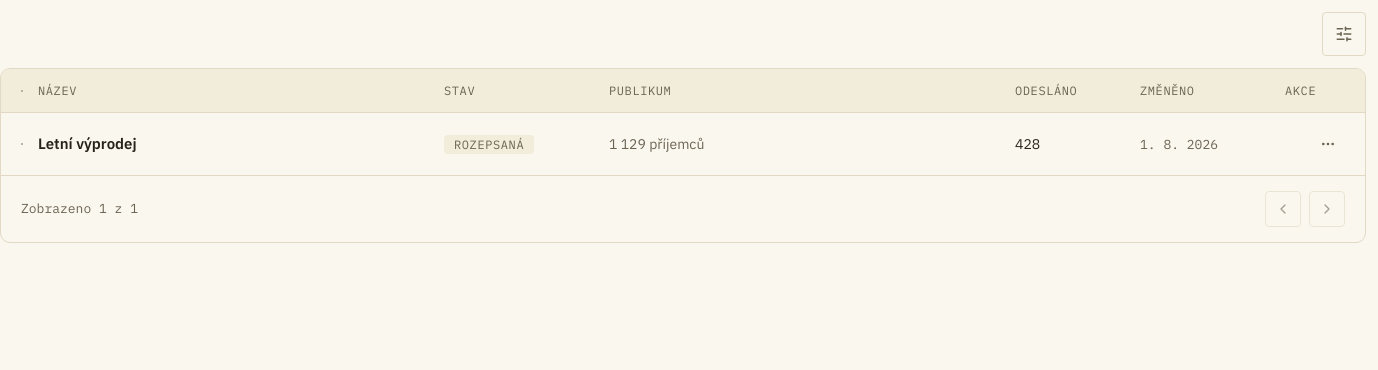
nabídka „…" v řádku kampaně › otevření nabídky neaktivuje řádek, myší ani klávesnicí
The width and height of the screenshot is (1378, 370).
Click the button named "Další akce s kampaní" at coordinates (1328, 144), box [1311,127,1345,161]
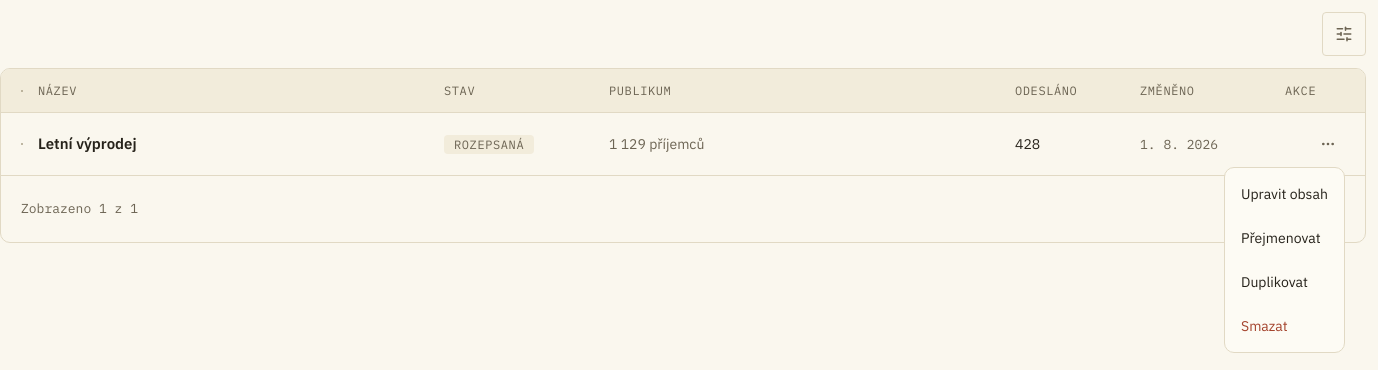
Now the menu item "Upravit obsah" is shown, box [1241,185,1328,203]
Press Escape
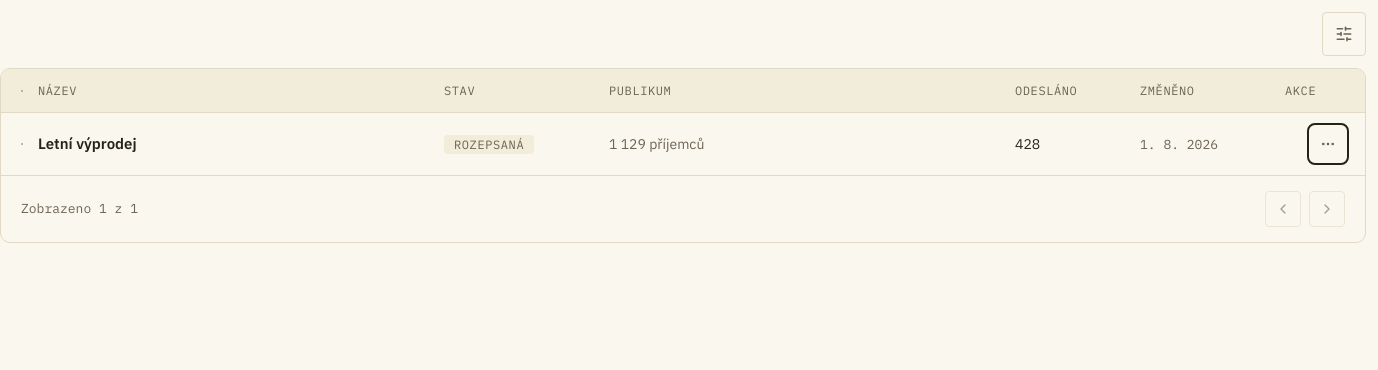
Press Enter
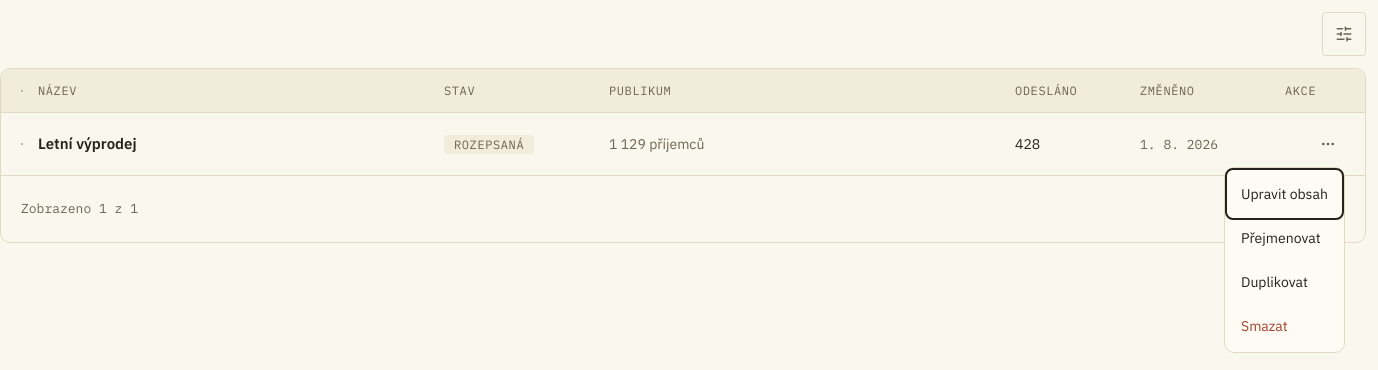
Now the menu item "Upravit obsah" is shown, box [1241,185,1328,203]
